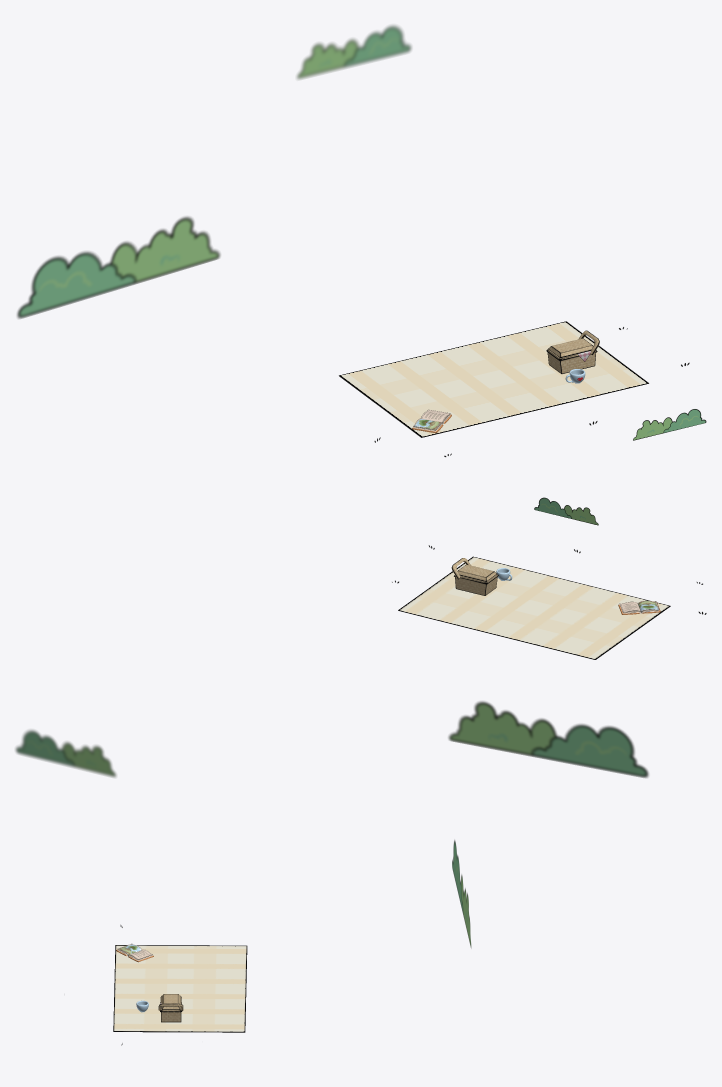
The model's file is section_1.glb.
3 renders of one model, top to bottom at view 1: azimuth 30°, elevation 25°; view 2: azimuth 150°, elevation 25°; view 3: azimuth 270°, elevation 25°, orthographic. The views are drawn at different scales.
Visible parts, largest first — view 1: LogoPart_1, LogoPart_6, LogoPart_7, LogoPart_3, LogoPart_5; view 2: LogoPart_1, LogoPart_6, LogoPart_7, LogoPart_3, LogoPart_5, LogoPart_4; view 3: LogoPart_1, LogoPart_6, LogoPart_3.
Boxes of the visible parts, x1,y1,x2,y2 form: LogoPart_1: (339,321,648,437); LogoPart_6: (17,216,220,318); LogoPart_7: (296,25,411,79); LogoPart_3: (546,330,599,373); LogoPart_5: (633,409,706,440); LogoPart_1: (398,556,670,659); LogoPart_6: (448,701,648,777); LogoPart_7: (15,730,116,777); LogoPart_3: (451,558,498,595); LogoPart_5: (534,497,598,525); LogoPart_4: (618,600,660,614); LogoPart_1: (113,945,247,1032); LogoPart_6: (452,840,471,948); LogoPart_3: (158,994,183,1022).
Size of the model in its own units: 3.68 by 0.5105 by 5.01.
8 materials, 8 textured.
